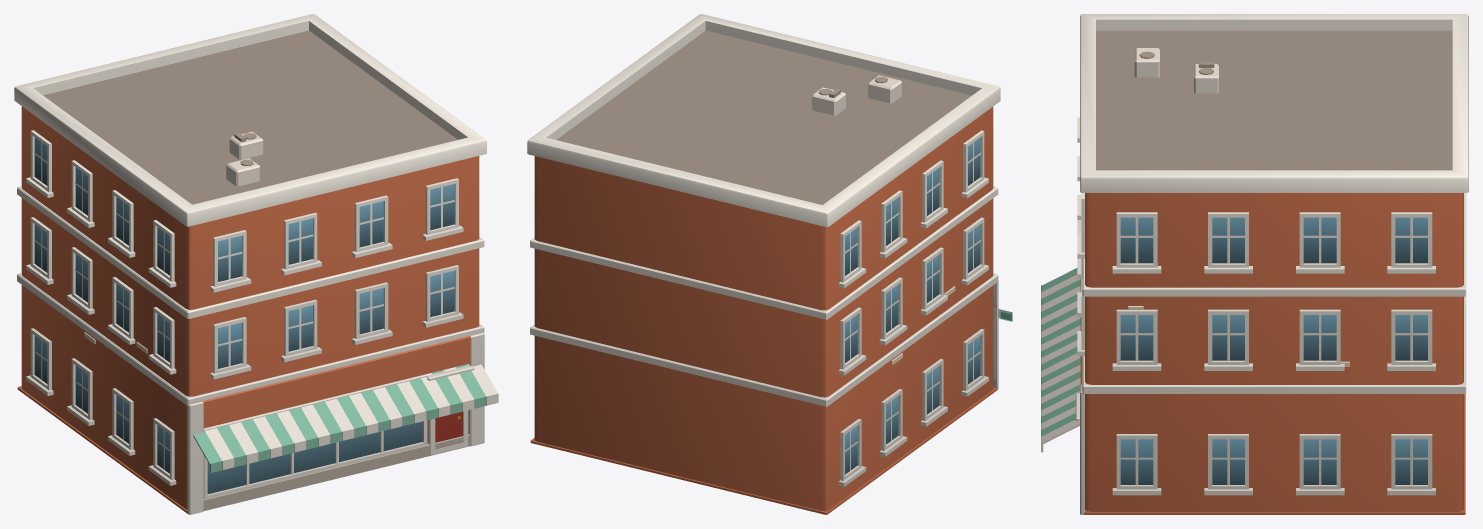
Rendered from vee_right5.glb.
The picture shows the model from 3 angles, left to right: view 1: azimuth 30°, elevation 25°; view 2: azimuth 150°, elevation 25°; view 3: azimuth 270°, elevation 25°; orthographic projection. The views are drawn at different scales.
Visible parts, largest first — view 1: vee_right5; view 2: vee_right5; view 3: vee_right5.
Boxes of the visible parts, x1,y1,x2,y2 form: vee_right5: (14, 14, 498, 514); vee_right5: (527, 14, 1012, 514); vee_right5: (1041, 14, 1468, 514).
Size of the model in its own units: 12.48 by 12.19 by 13.55.
Materials: 1 (1 with a texture image).
